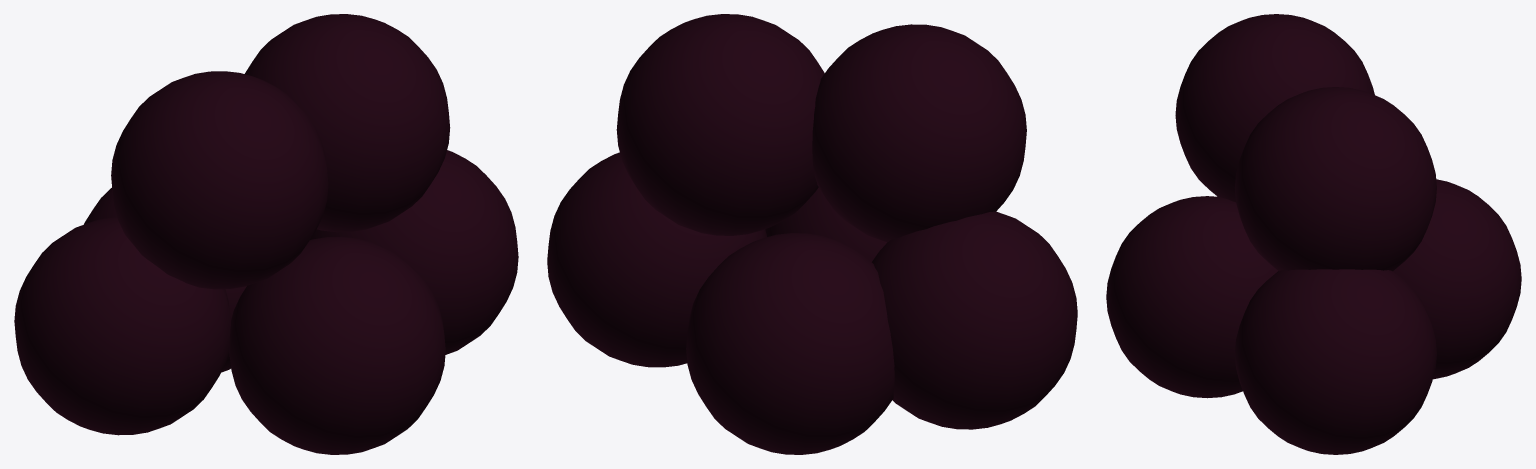
File: Belladonna.fbx
3 views of the same model, side by side, from view 1: azimuth 30°, elevation 25°; view 2: azimuth 150°, elevation 25°; view 3: azimuth 270°, elevation 25° (orthographic). The views are drawn at different scales.
Visible parts, largest first — view 1: pSphere2; view 2: pSphere2; view 3: pSphere2.
Boxes of the visible parts, bbox=[...] form: pSphere2: bbox=[14, 14, 518, 454]; pSphere2: bbox=[547, 14, 1077, 454]; pSphere2: bbox=[1106, 14, 1521, 454].
Size of the model in its own units: 5.12 by 3.59 by 4.11.
